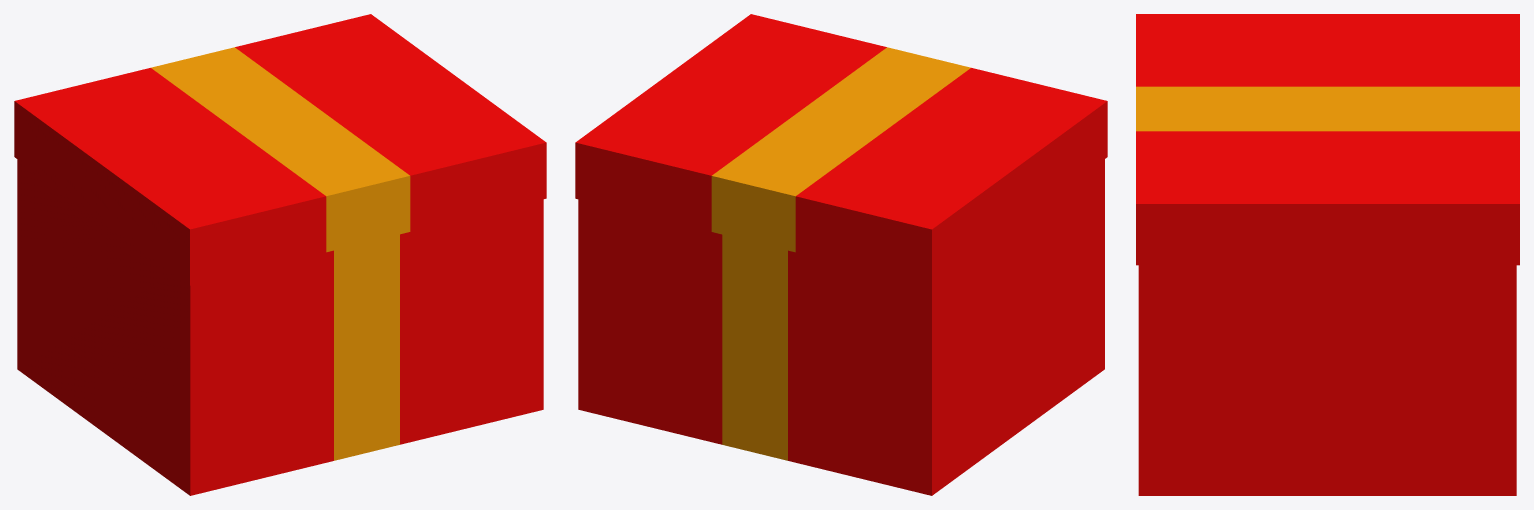
3 views of the same model, side by side, from view 1: azimuth 30°, elevation 25°; view 2: azimuth 150°, elevation 25°; view 3: azimuth 270°, elevation 25° (orthographic). The views are drawn at different scales.
Parts seen in each view (by area): view 1: Box002, Box003; view 2: Box002, Box003; view 3: Box003, Box002.
Boxes of the visible parts, x1,y1,x2,y2 form: Box002: (17,159,543,495); Box003: (14,14,546,285); Box002: (578,159,1104,495); Box003: (575,14,1107,285); Box003: (1136,14,1519,265); Box002: (1138,265,1516,495).
Bounding box in the file's own units: 11.34 × 8.14 × 9.67.
